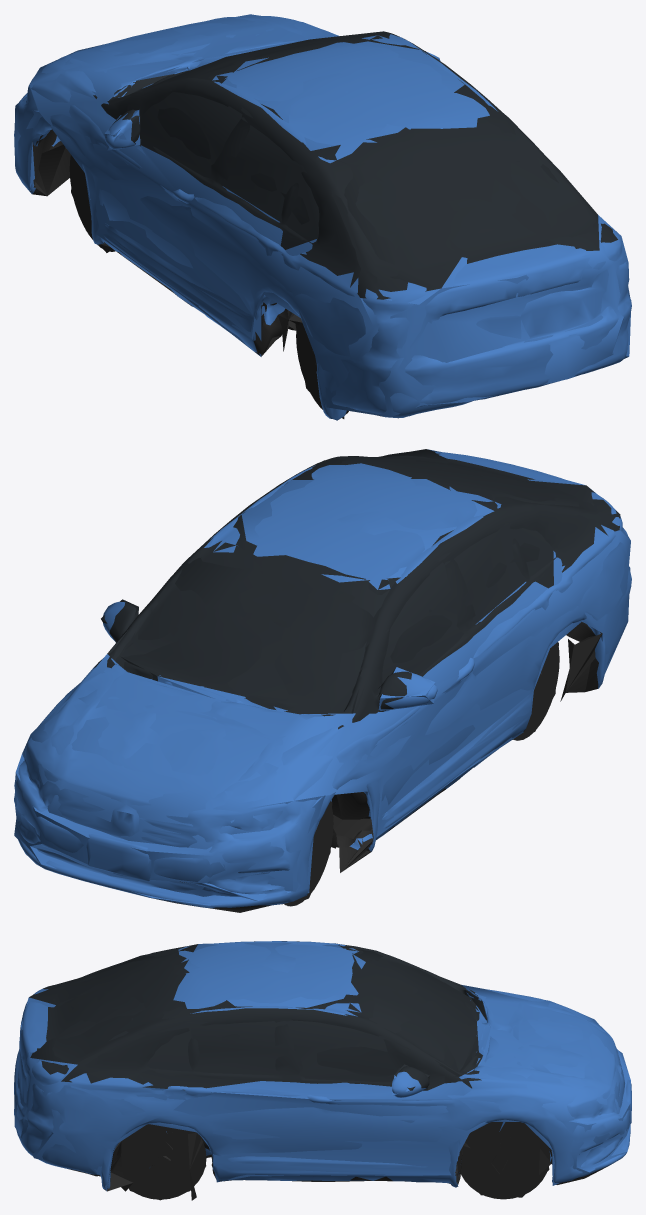
The model's file is volkswagen-jetta.glb.
3 renders of one model, top to bottom at view 1: azimuth 30°, elevation 25°; view 2: azimuth 150°, elevation 25°; view 3: azimuth 270°, elevation 25°, orthographic. The views are drawn at different scales.
Parts seen in each view (by area): view 1: body, far; view 2: body, far; view 3: body, far.
Boxes of the visible parts, <box> form: body: <box>14,16,631,420</box>; far: <box>14,14,630,418</box>; body: <box>14,452,631,912</box>; far: <box>14,449,630,906</box>; body: <box>14,941,631,1200</box>; far: <box>14,942,630,1200</box>.
Bounding box in the file's own units: 2.24 × 1.65 × 4.75.
